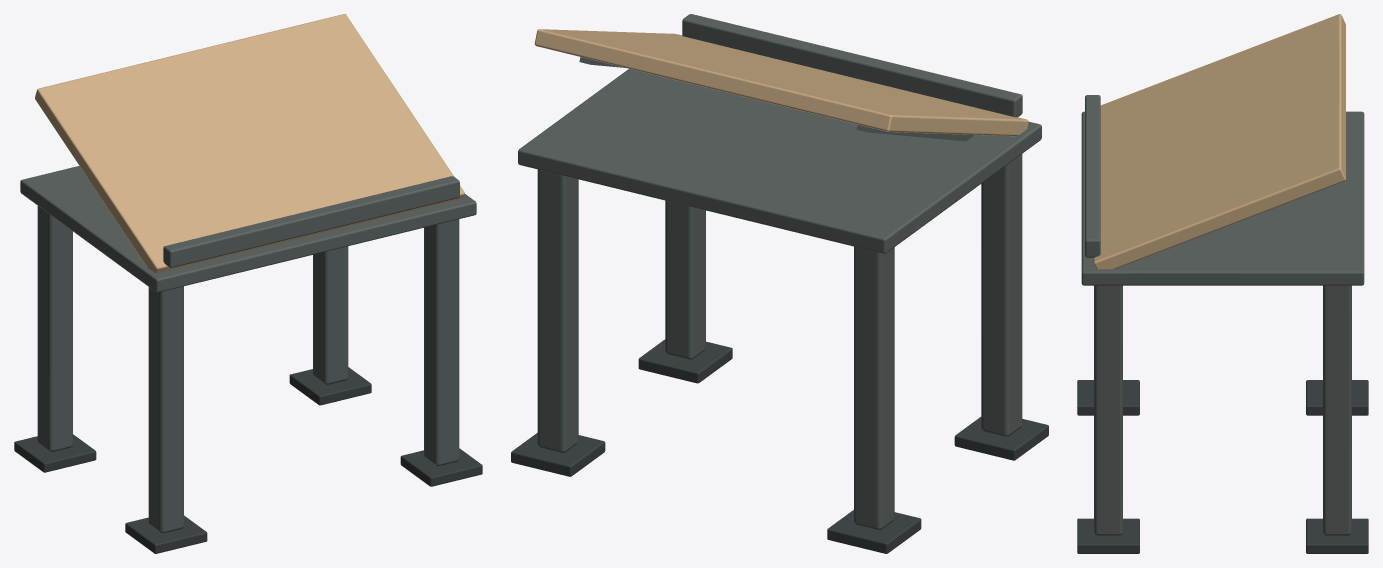
The model's file is public-library-and-reading-garden-public-library-and-r-2713e0b8__30940.glb.
The picture shows the model from 3 angles, left to right: view 1: azimuth 30°, elevation 25°; view 2: azimuth 150°, elevation 25°; view 3: azimuth 270°, elevation 25°; orthographic projection. The views are drawn at different scales.
Visible parts, largest first — view 1: public-library-and-reading-garden-accessible-reading-easel; view 2: public-library-and-reading-garden-accessible-reading-easel; view 3: public-library-and-reading-garden-accessible-reading-easel.
Part boxes in pixels (x1,y1,x2,y2): public-library-and-reading-garden-accessible-reading-easel: [14, 14, 482, 553]; public-library-and-reading-garden-accessible-reading-easel: [511, 14, 1048, 553]; public-library-and-reading-garden-accessible-reading-easel: [1077, 14, 1368, 553].
Size of the model in its own units: 0.87 by 0.9371 by 0.65.
